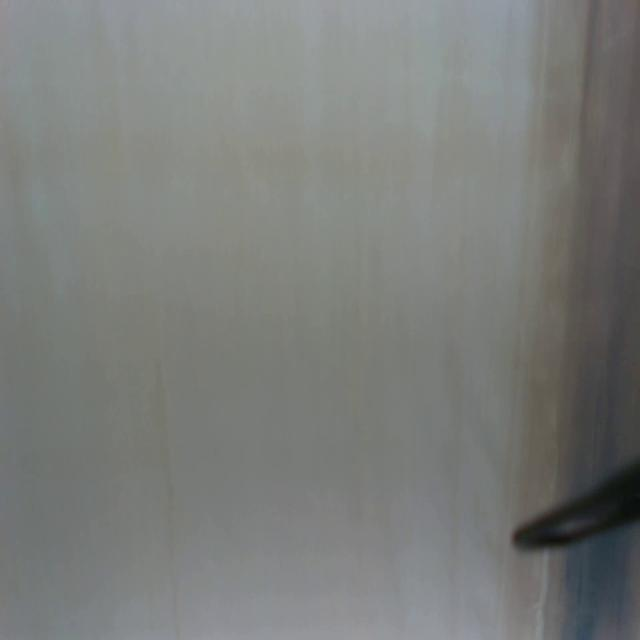color bleeding: (518, 0, 640, 460), (505, 547, 640, 640)
